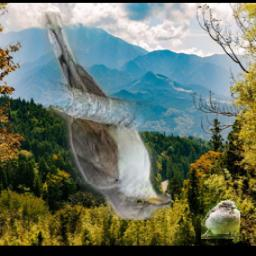Cuckoo: (42, 11, 172, 220)
Sparrow: (202, 201, 241, 240)
